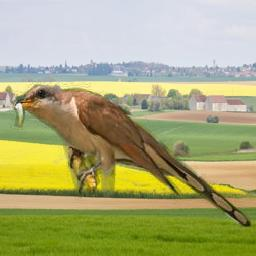Cuckoo: (7, 83, 251, 228)
